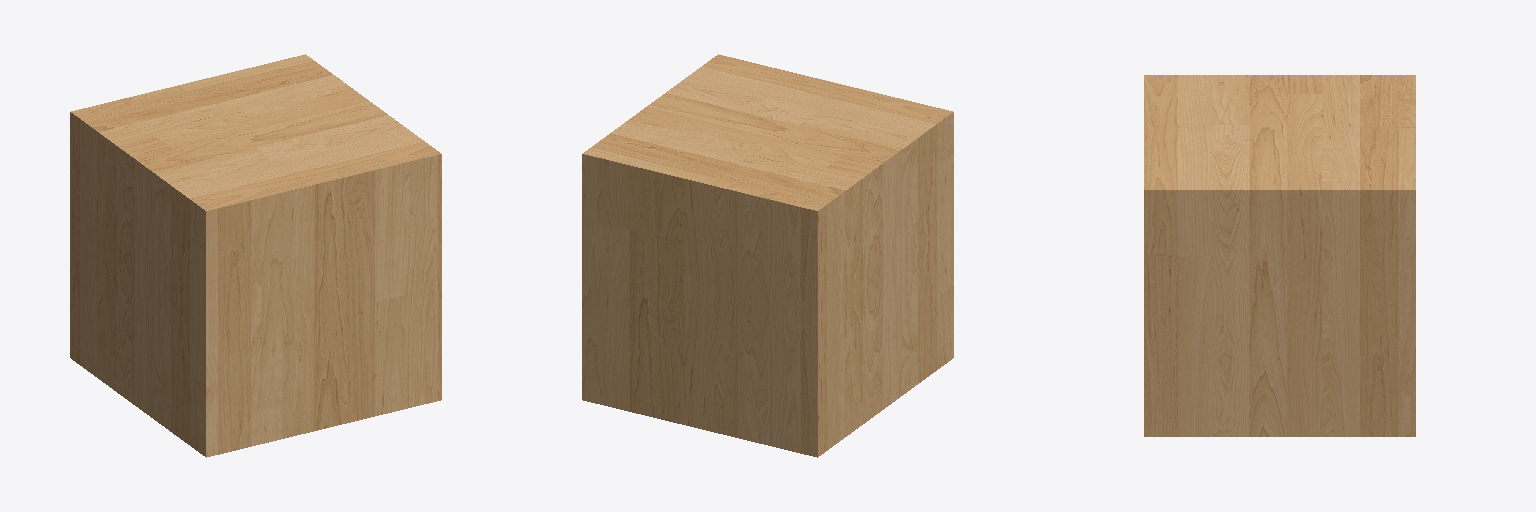
3 renders of one model, left to right at view 1: azimuth 30°, elevation 25°; view 2: azimuth 150°, elevation 25°; view 3: azimuth 270°, elevation 25°, orthographic.
Parts seen in each view (by area): view 1: Cube; view 2: Cube; view 3: Cube.
Boxes of the visible parts, x1=… form: Cube: x1=70, y1=54, x2=441, y2=457; Cube: x1=582, y1=54, x2=953, y2=457; Cube: x1=1144, y1=75, x2=1415, y2=436.
Size of the model in its own units: 2 by 2 by 2.
1 materials, 1 textured.